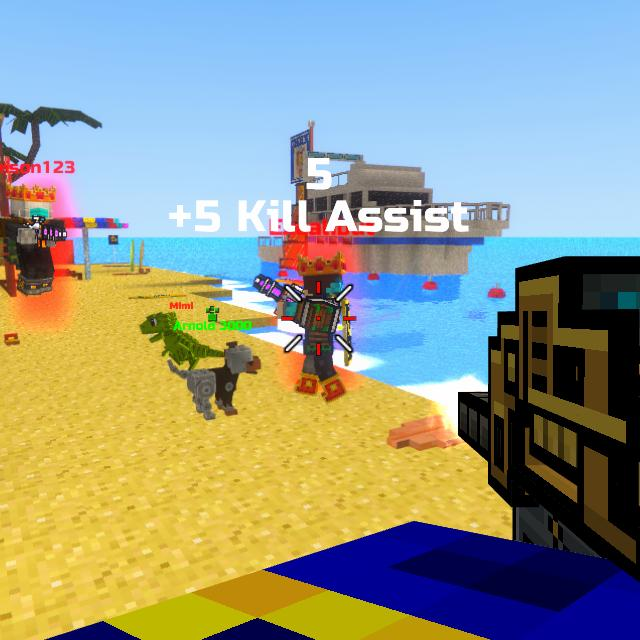Enemy: (276, 260, 348, 405), (0, 190, 66, 297)
